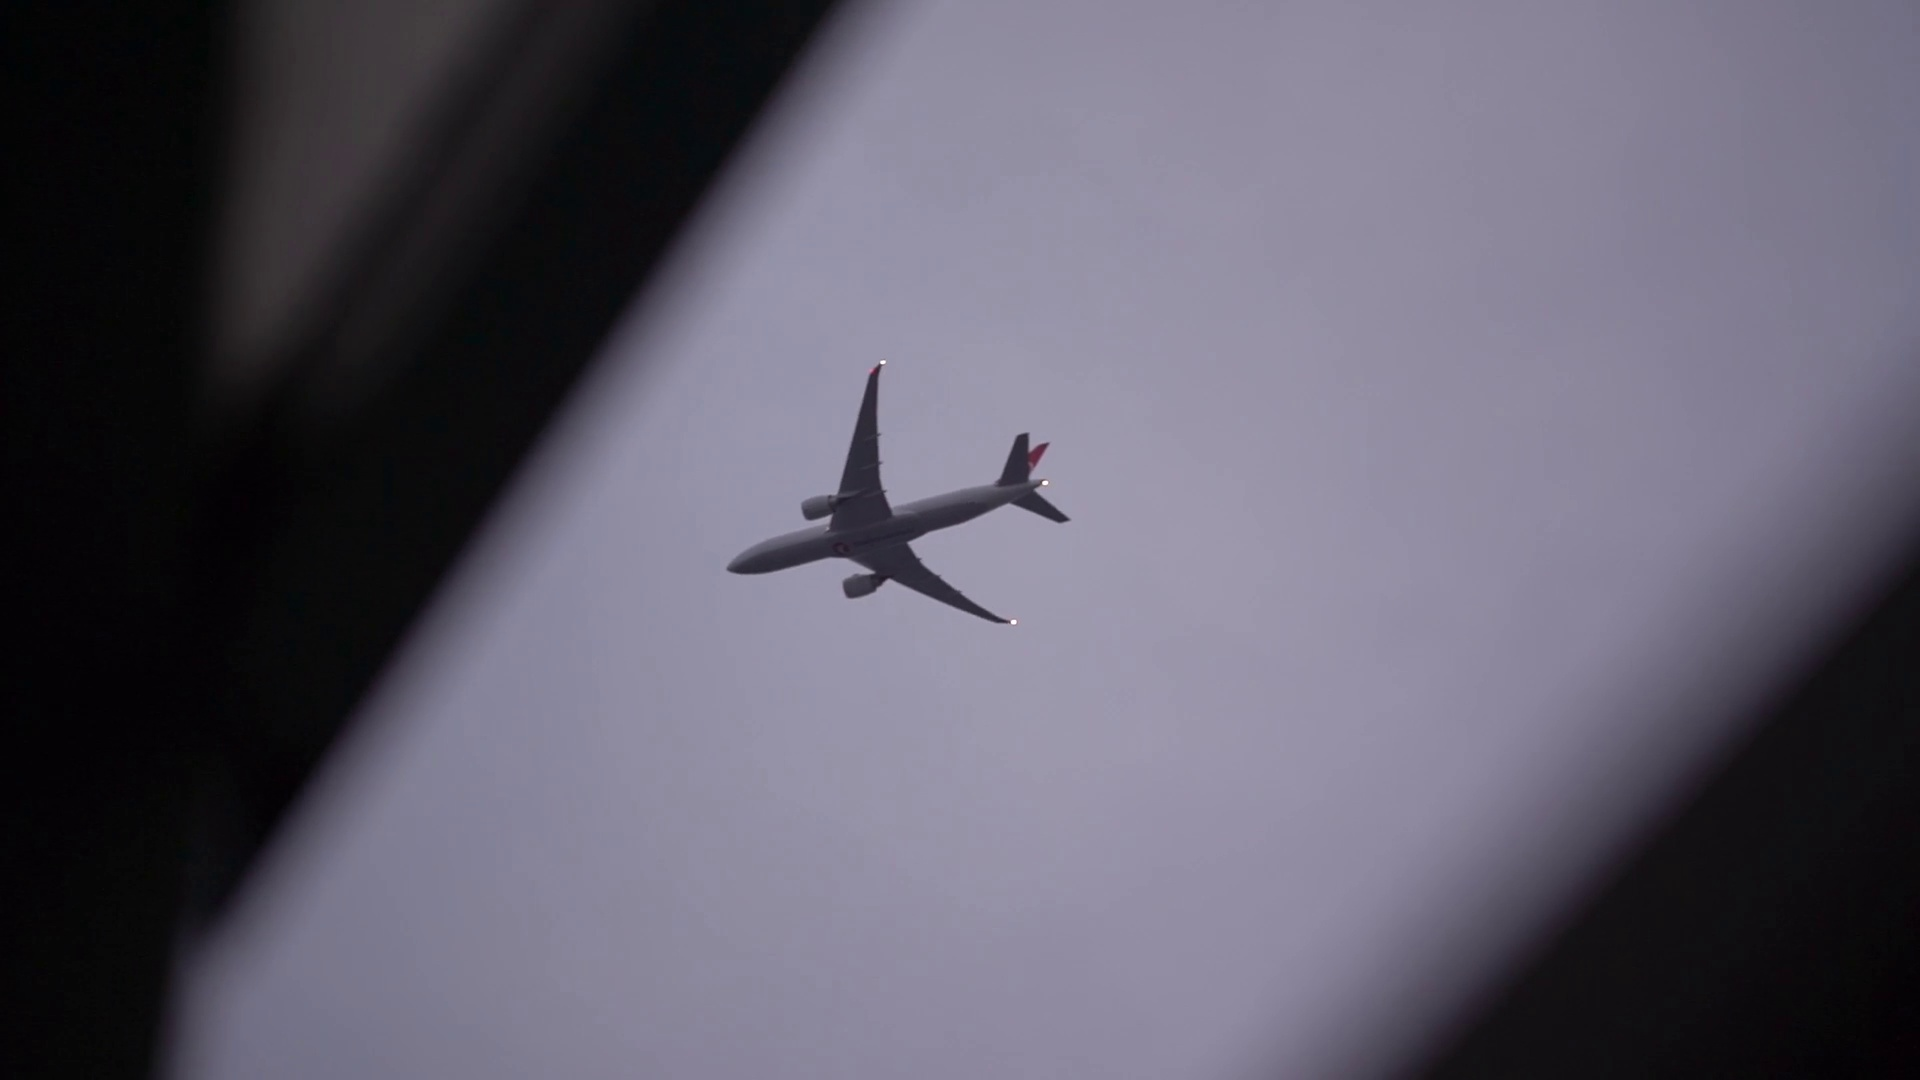plane: (725, 359, 1073, 626)
